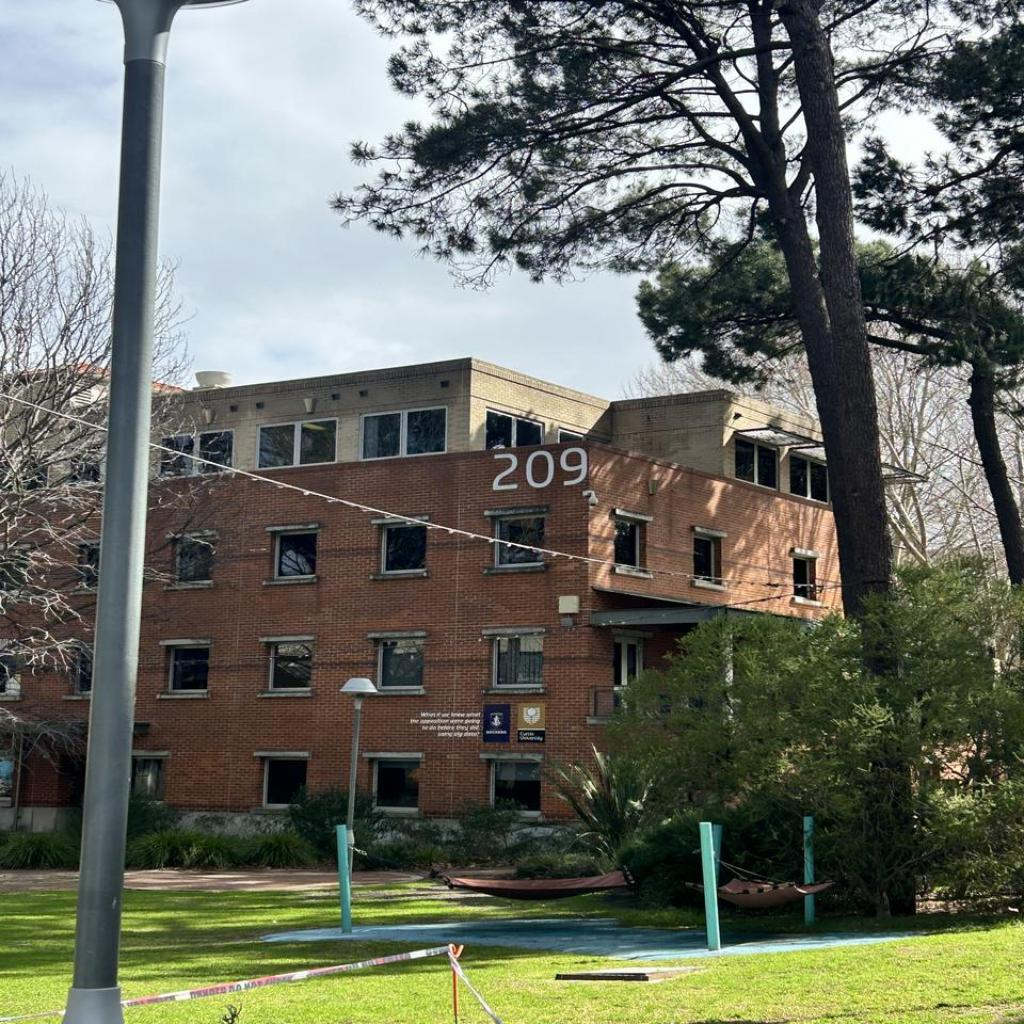BuildingCodes: (490, 446, 590, 492)
